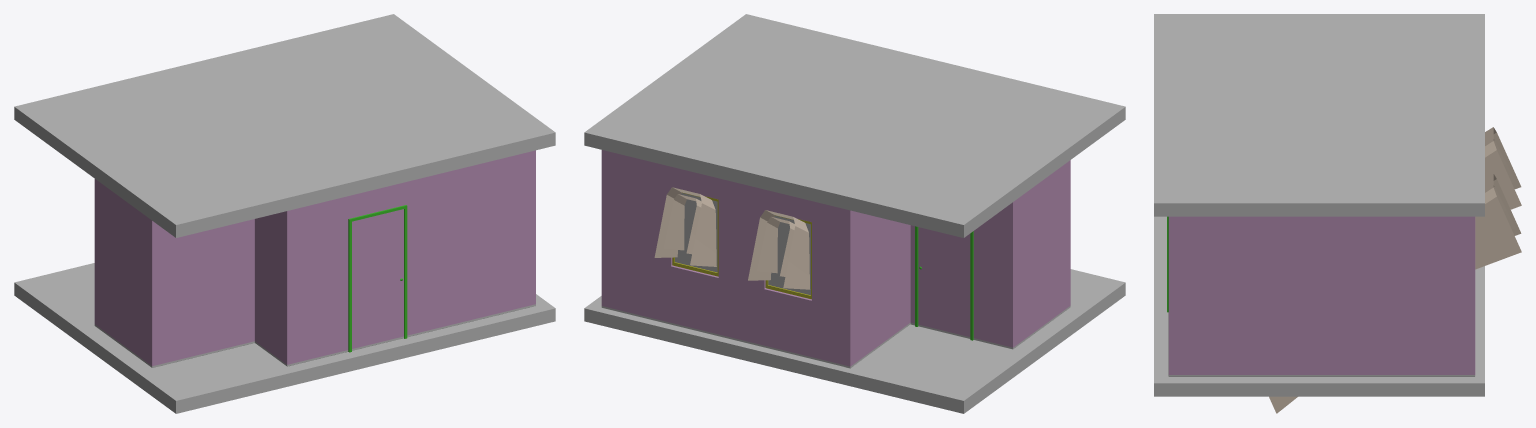
File: FloorPlan324.fbx
The picture shows the model from 3 angles, left to right: view 1: azimuth 30°, elevation 25°; view 2: azimuth 150°, elevation 25°; view 3: azimuth 270°, elevation 25°; orthographic projection. The views are drawn at different scales.
Visible parts, largest first — view 1: Ceiling.022, StandardWallSize.022, Floor.021, StandardDoorFrame1 (2).002; view 2: Ceiling.022, StandardWallSize.022, Floor.021, Baseboard.009, StandardWindow1 (2).003, Baseboard.008, Baseboard.006, Baseboard.007, StandardDoorFrame1.020; view 3: Ceiling.022, StandardWallSize.022, Floor.021, Baseboard.009, Baseboard.008.
Boxes of the visible parts, x1,y1,x2,y2 form: Ceiling.022: (14, 14, 555, 237); StandardWallSize.022: (94, 150, 535, 367); Floor.021: (14, 263, 555, 413); StandardDoorFrame1 (2).002: (348, 205, 407, 352); Ceiling.022: (584, 14, 1125, 237); StandardWallSize.022: (601, 150, 1070, 368); Floor.021: (584, 269, 1125, 413); Baseboard.009: (654, 187, 716, 266); StandardWindow1 (2).003: (672, 192, 810, 295); Baseboard.008: (748, 210, 809, 289); Baseboard.006: (663, 194, 701, 254); Baseboard.007: (756, 217, 795, 276); StandardDoorFrame1.020: (915, 226, 973, 340); Ceiling.022: (1154, 14, 1484, 216); StandardWallSize.022: (1168, 216, 1475, 376); Floor.021: (1154, 216, 1484, 396); Baseboard.009: (1269, 173, 1521, 413); Baseboard.008: (1485, 127, 1521, 209).
Bounding box in the file's own units: 610 × 376 × 501.
